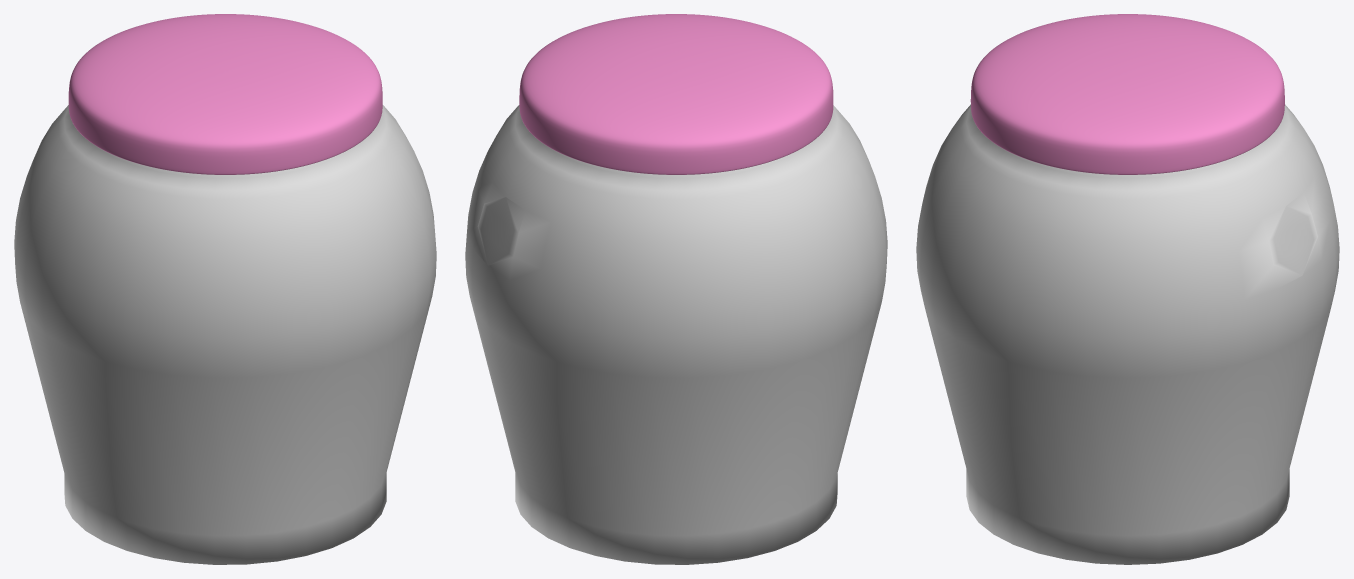
The model's file is frasco.fbx.
3 views of the same model, side by side, from view 1: azimuth 30°, elevation 25°; view 2: azimuth 150°, elevation 25°; view 3: azimuth 270°, elevation 25° (orthographic).
Parts seen in each view (by area): view 1: Cilindro.010, Cilindro.020; view 2: Cilindro.010, Cilindro.020; view 3: Cilindro.010, Cilindro.020.
Part boxes in pixels (x1,y1,x2,y2): Cilindro.010: (14,105,436,564); Cilindro.020: (68,14,382,174); Cilindro.010: (465,105,887,564); Cilindro.020: (519,14,833,174); Cilindro.010: (916,104,1339,564); Cilindro.020: (970,14,1284,174).
Size of the model in its own units: 46.52 by 52.82 by 46.52.
